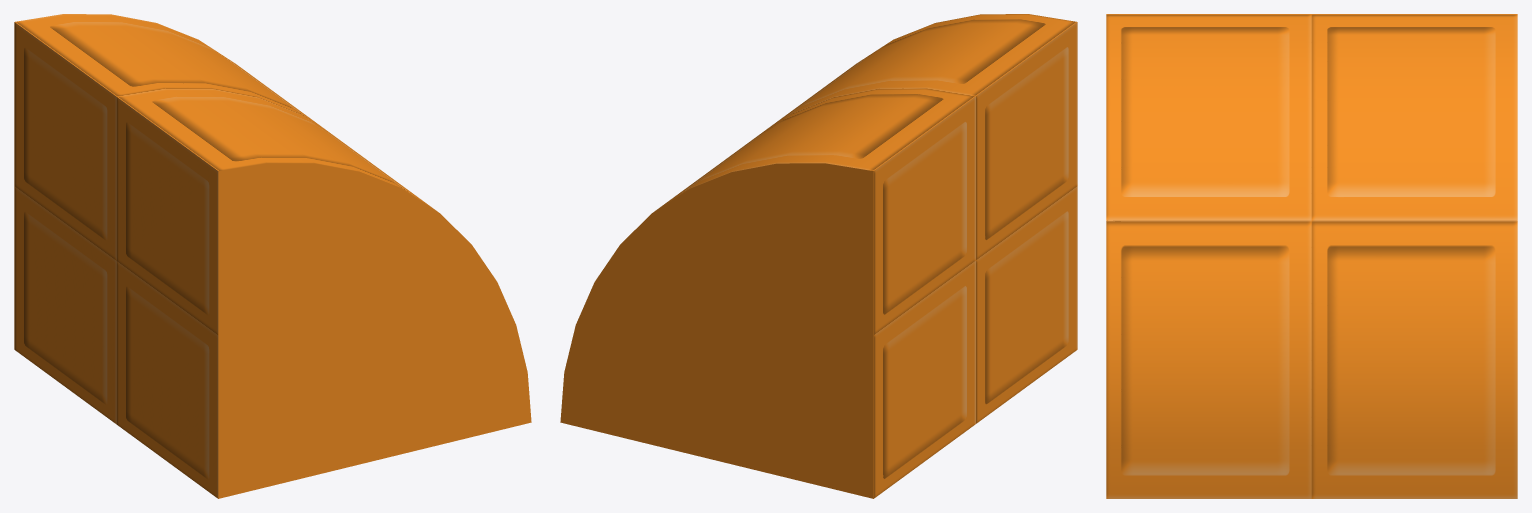
Rendered from Hump_mesh.fbx.
3 views of the same model, side by side, from view 1: azimuth 30°, elevation 25°; view 2: azimuth 150°, elevation 25°; view 3: azimuth 270°, elevation 25° (orthographic).
Visible parts, largest first — view 1: Hump_mesh; view 2: Hump_mesh; view 3: Hump_mesh.
Boxes of the visible parts, box(x1,y1,x2,y2) form: Hump_mesh: box(14, 14, 531, 498); Hump_mesh: box(560, 14, 1077, 498); Hump_mesh: box(1106, 14, 1517, 498).
Size of the model in its own units: 90 by 90 by 101.
